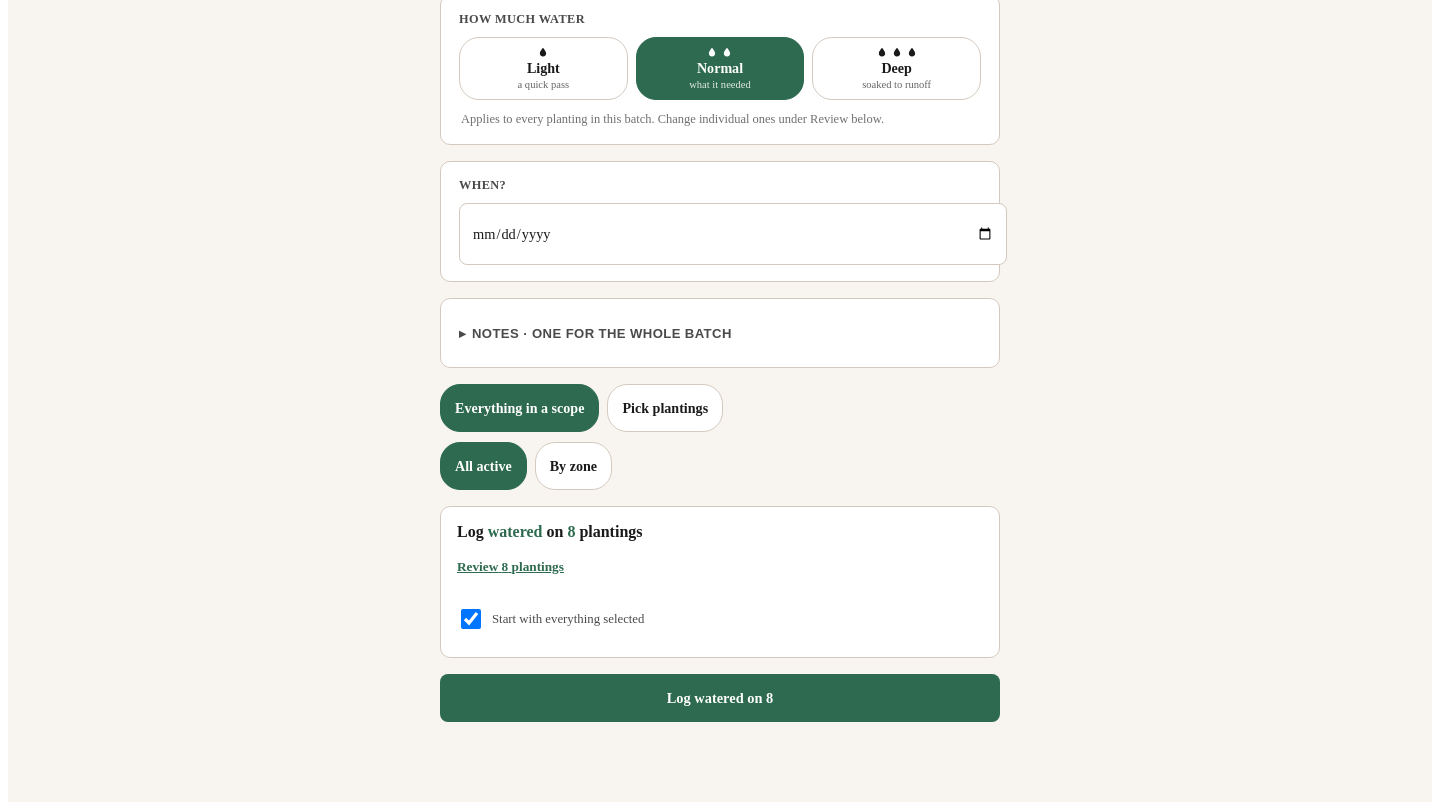
Test: S4 — the count assertion is VISIBLE, not just logged › renders the server warning on the success card when fewer rows were written
(page scrolled)
Expected: the button "Review 8 plantings" is shown, [457, 545, 564, 589]
Click the button "Log watered on 8" at (720, 698), box [440, 674, 1000, 722]
(page scrolled)
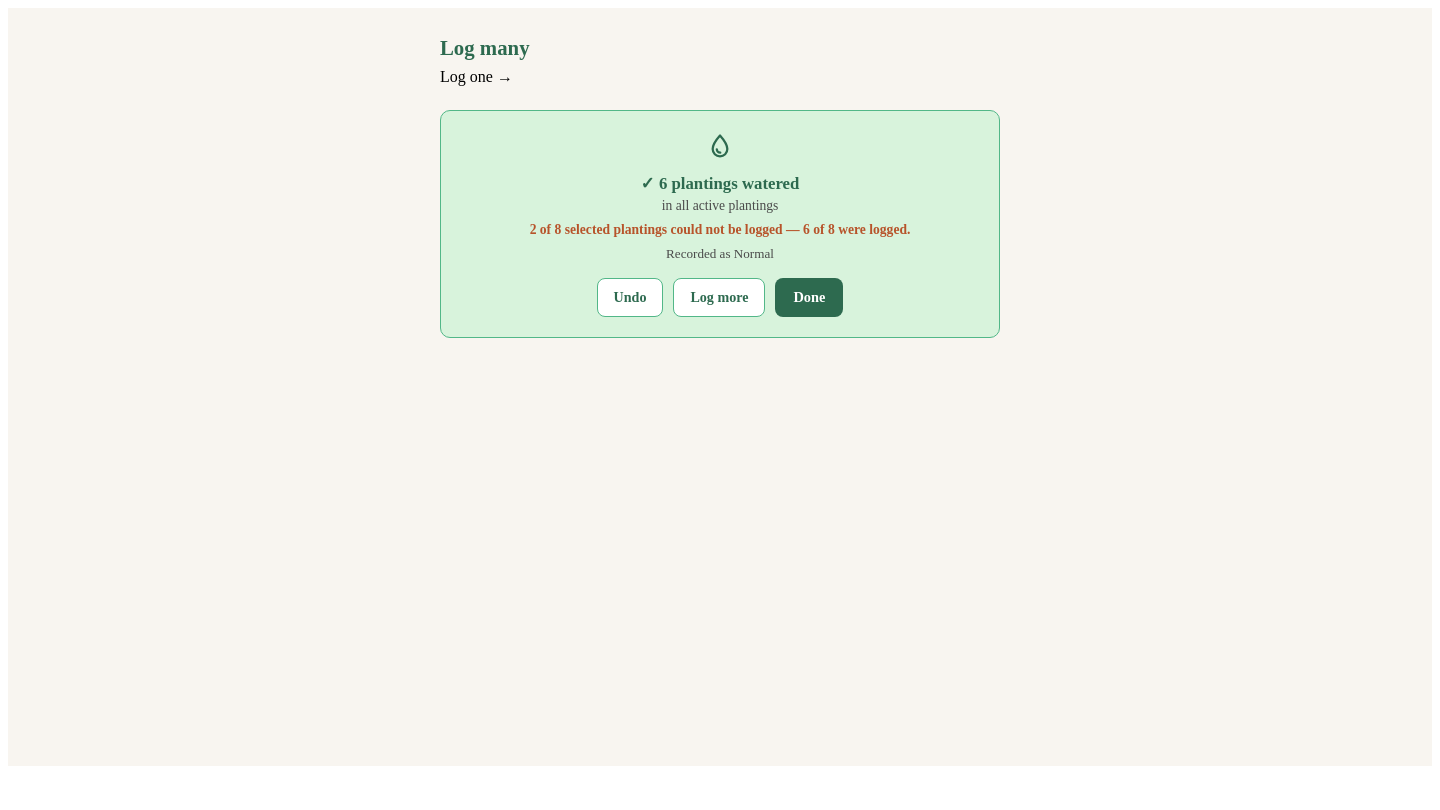
Result: the message with test id "logmany-partial-warning" shows "2 of 8 selected plantings could not be logged" at [530, 222, 783, 237]
Result: the message with test id "logmany-partial-warning" shows "6 of 8 were logged" at [783, 222, 910, 237]
